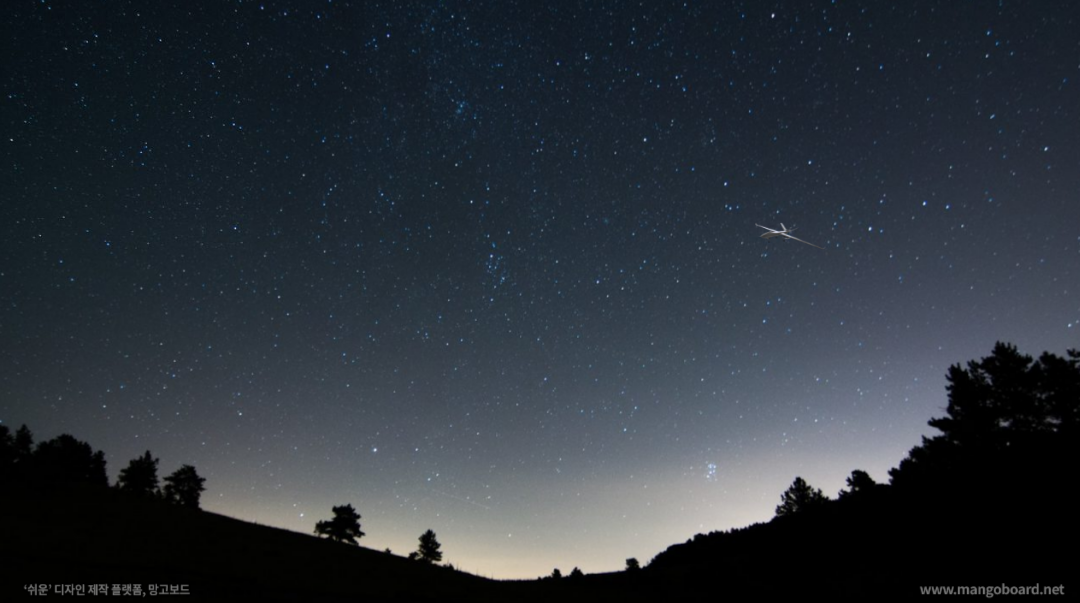military drone: (755, 222, 826, 249)
